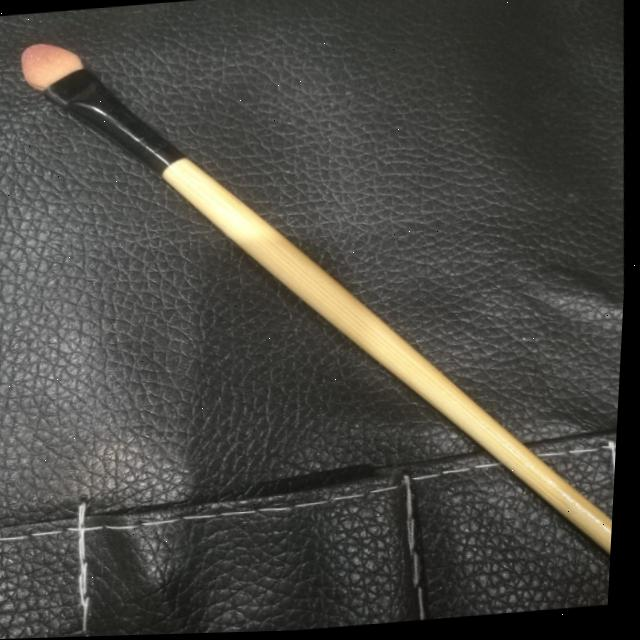brush: (0, 0, 640, 617)
